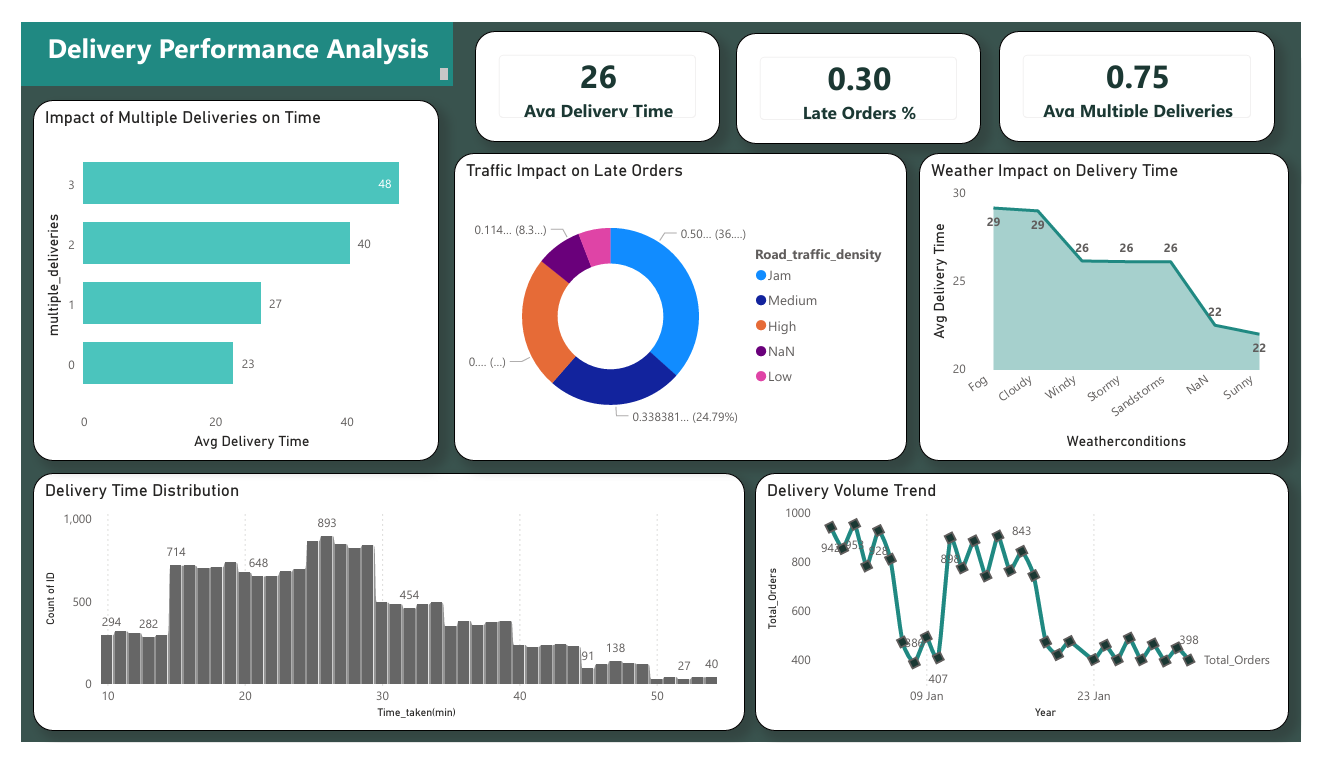

Layout of this report page (visuals, bound fields, positions):
{"tool":"powerbi","page":{"name":"Delivery Performance Analysis","canvas":[1280,720],"ordinal":2},"visuals":[{"type":"textbox","title":"Delivery Performance Analysis","box":[0,0,432.2,64.5],"z":0},{"type":"cardVisual","fields":{"Data":["orders.Avg Delivery Time"]},"box":[452.8,8.2,245.6,111.1],"z":1000},{"type":"cardVisual","fields":{"Data":["orders.Late Orders %"]},"box":[713.6,9.6,245.6,111.1],"z":2000},{"type":"cardVisual","fields":{"Data":["orders.Avg Multiple Deliveries"]},"box":[977,8.2,275.8,111.1],"z":3000},{"type":"columnChart","title":"Delivery Time Distribution","fields":{"Category":["orders.Time_taken(min)"],"Y":["CountNonNull(orders.ID)"]},"box":[11,450.1,712.2,258],"z":4000},{"type":"donutChart","title":"Traffic Impact on Late Orders","fields":{"Category":["orders.Road_traffic_density"],"Y":["orders.Late Orders %"]},"box":[432.2,130.4,452.8,307.4],"z":5000},{"type":"barChart","title":"Impact of Multiple Deliveries on Time","fields":{"Y":["orders.Avg Delivery Time"],"Category":["orders.multiple_deliveries"]},"box":[11,76.8,406.2,360.9],"z":6000},{"type":"areaChart","title":"Weather Impact on Delivery Time","fields":{"Category":["orders.Weatherconditions"],"Y":["orders.Avg Delivery Time"]},"box":[897.4,130.4,369.1,307.4],"z":7000},{"type":"lineChart","title":"Delivery Volume Trend","fields":{"Y":["orders.Total_Orders"],"Category":["orders.Order_Date.Variation.Date Hierarchy.Year","orders.Order_Date.Variation.Date Hierarchy.Day"]},"box":[732.8,450.1,533.8,258],"z":8000}]}

Visuals, with their boxes in screenshot pixels (x1, y1, x2, y2), scaled from the page's 1280x720 canvas onto the 1326x763 screenshot:
"Delivery Performance Analysis" textbox: region(0, 0, 448, 68)
cardVisual - orders.Avg Delivery Time: region(469, 9, 723, 126)
cardVisual - orders.Late Orders %: region(739, 10, 994, 128)
cardVisual - orders.Avg Multiple Deliveries: region(1012, 9, 1298, 126)
"Delivery Time Distribution" columnChart: region(11, 477, 749, 750)
"Traffic Impact on Late Orders" donutChart: region(448, 138, 917, 464)
"Impact of Multiple Deliveries on Time" barChart: region(11, 81, 432, 464)
"Weather Impact on Delivery Time" areaChart: region(930, 138, 1312, 464)
"Delivery Volume Trend" lineChart: region(759, 477, 1312, 750)
